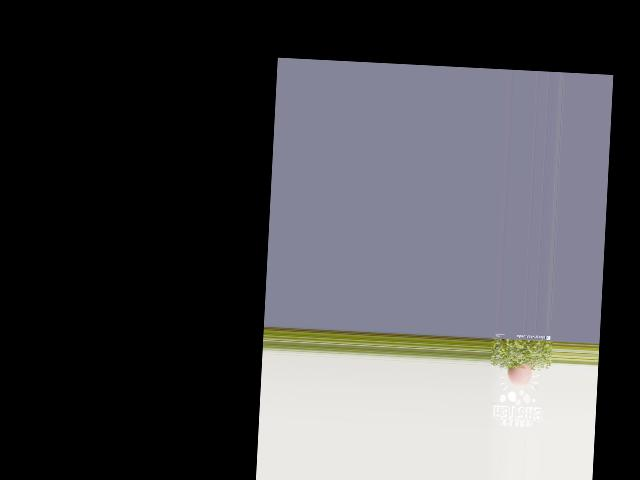egg: (505, 363, 531, 388)
